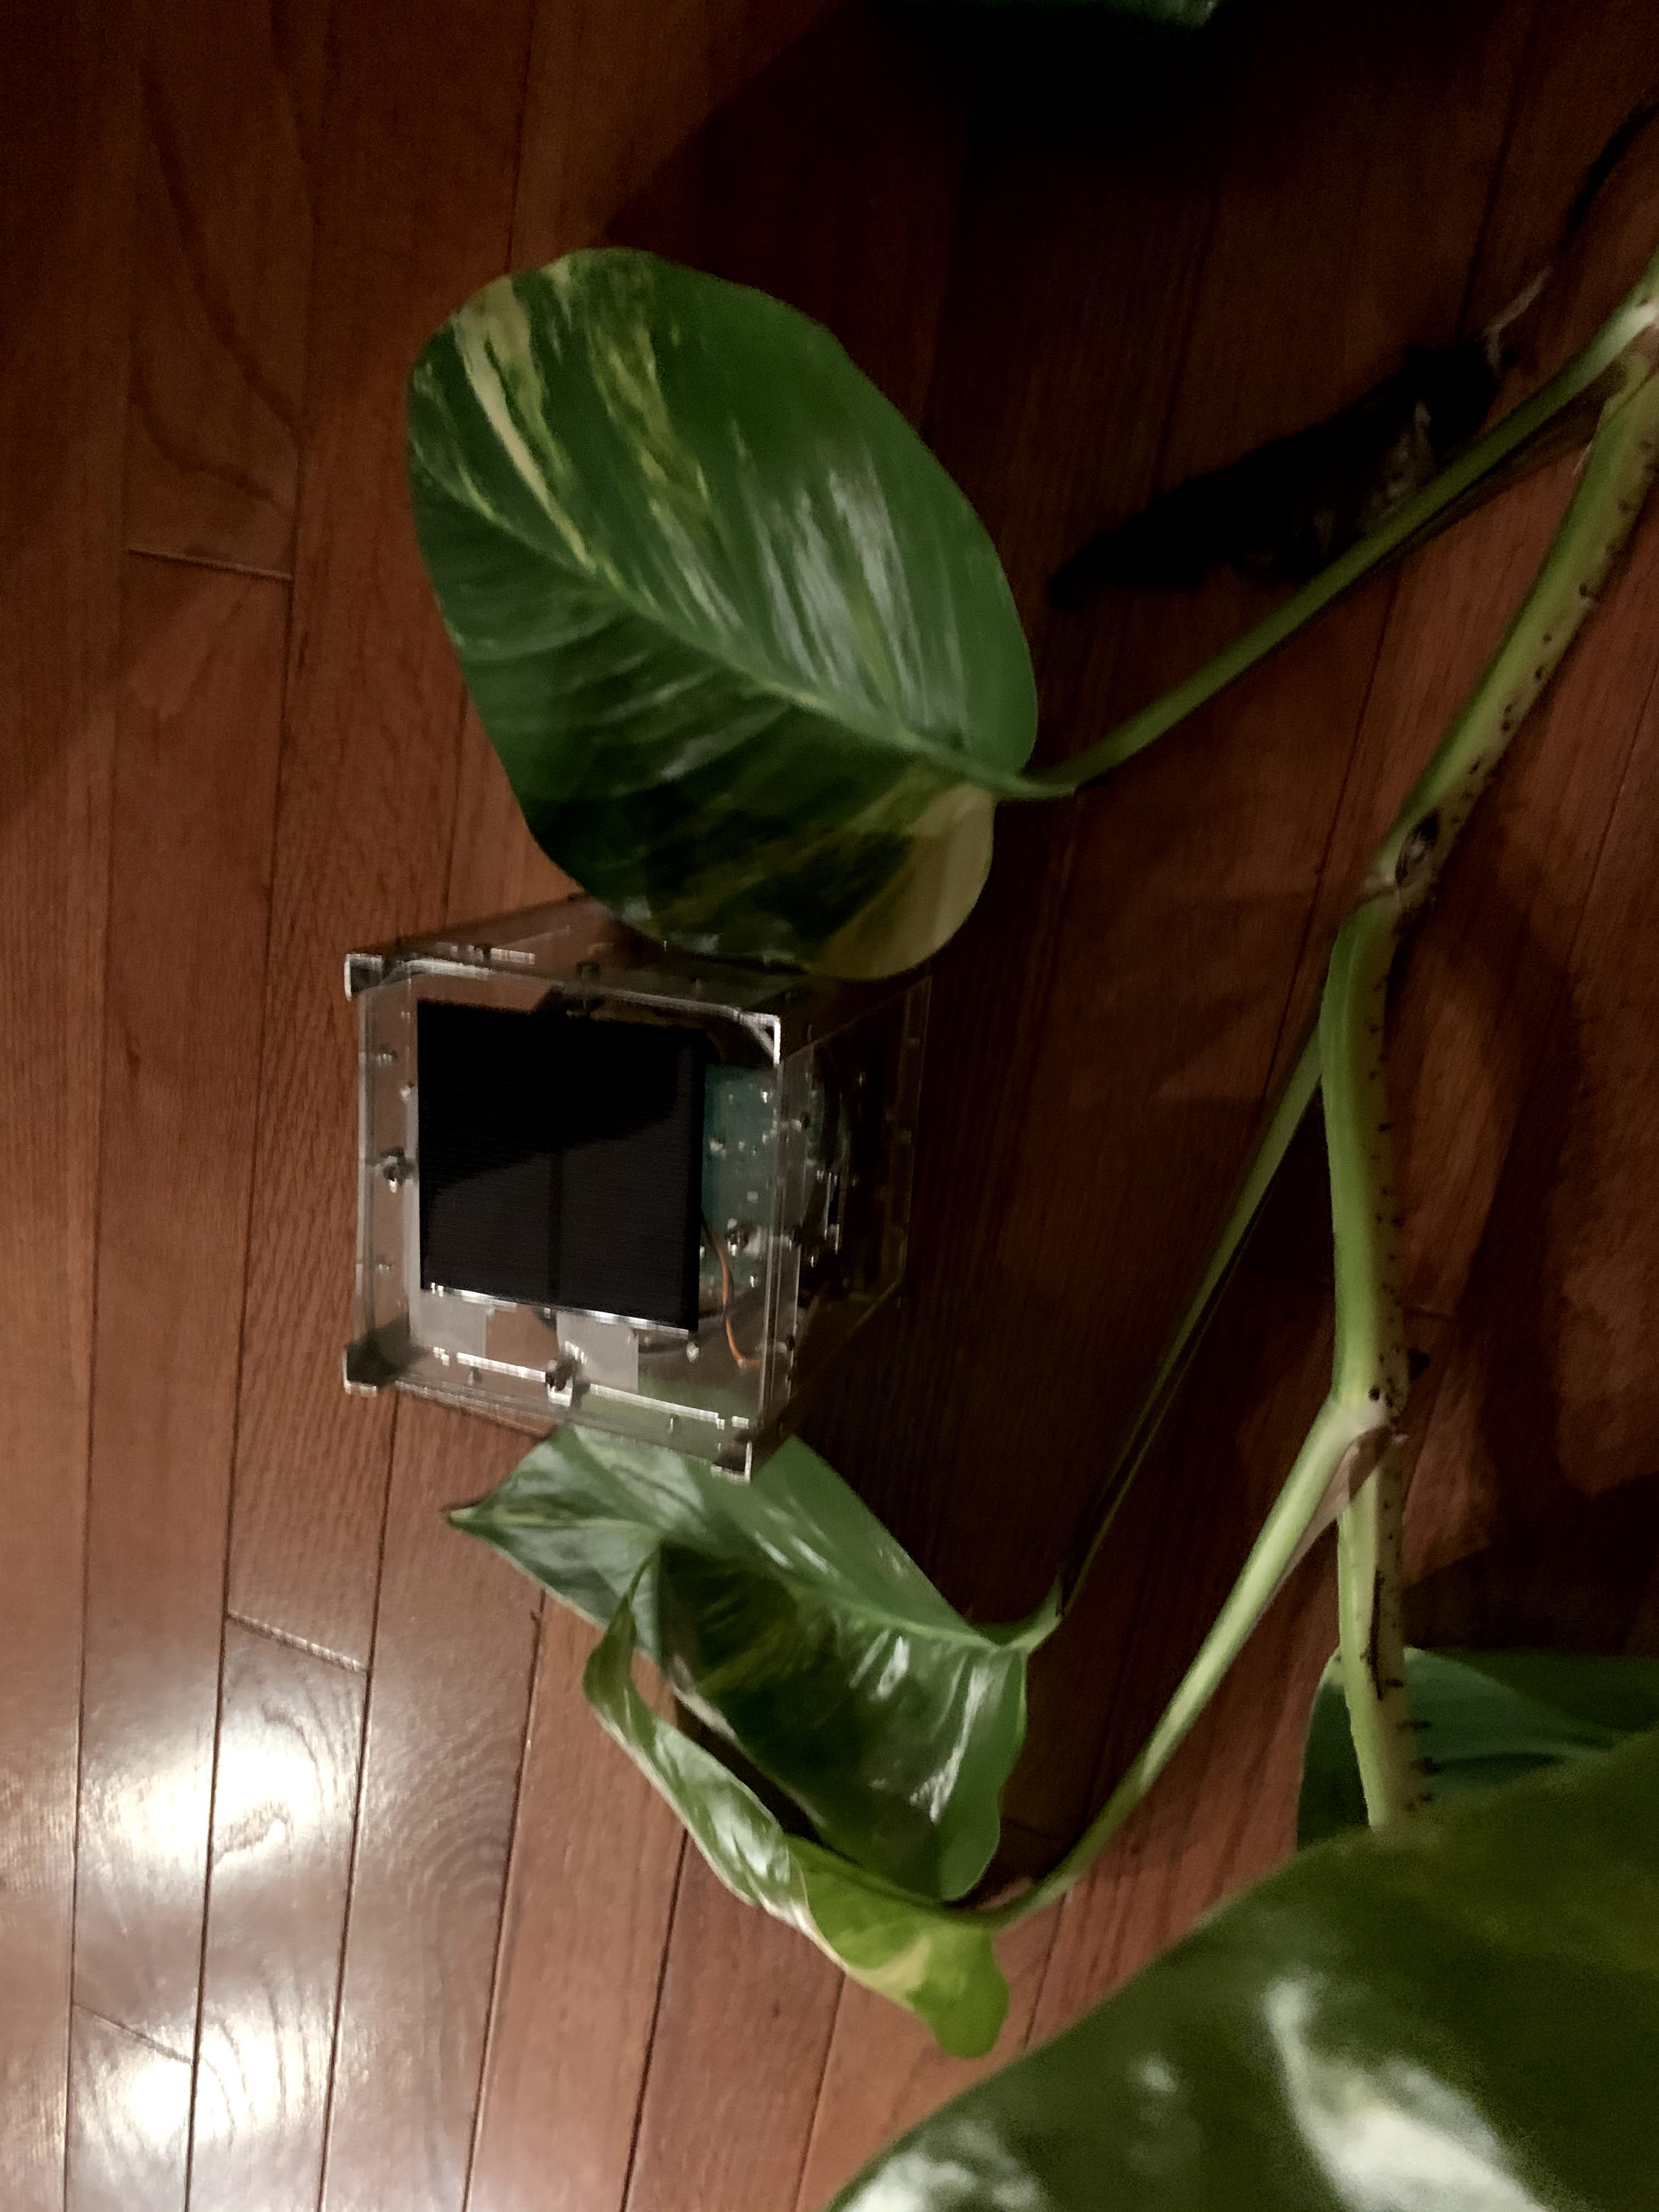Space-debris-cubesat: (293, 885, 965, 1482)
